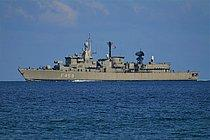MIL_Ship: (15, 31, 201, 82)
